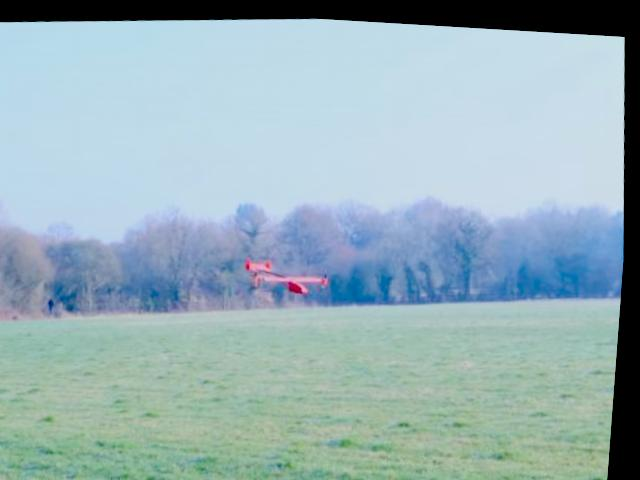uav: (242, 245, 339, 299)
